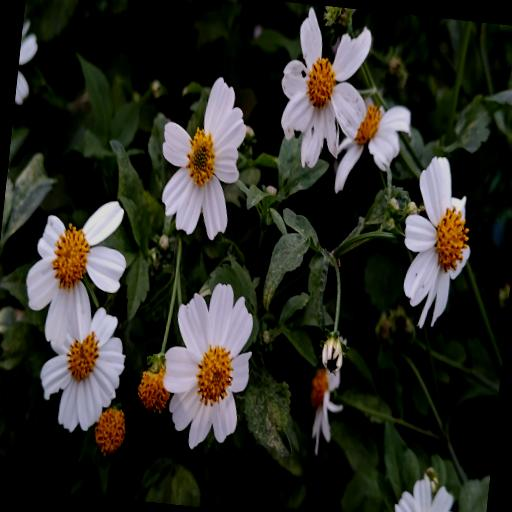Bidens: (163, 283, 253, 449), (281, 8, 371, 168), (161, 77, 246, 240), (41, 285, 126, 430), (403, 157, 470, 328)
